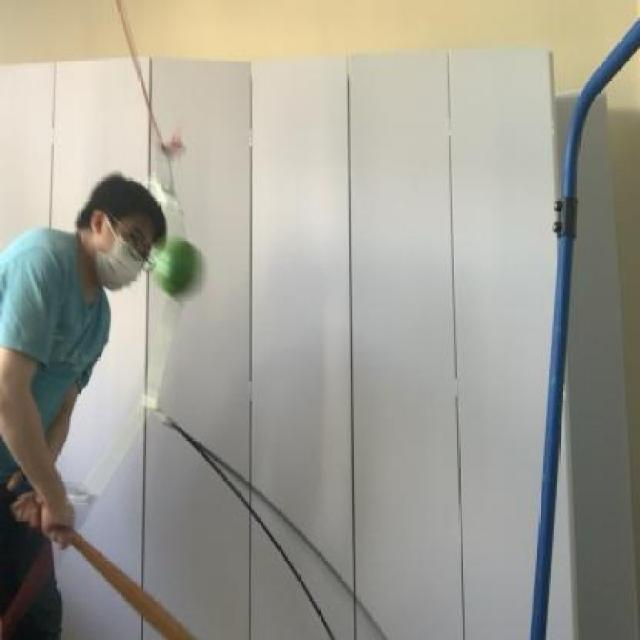baseball: (152, 227, 213, 313)
